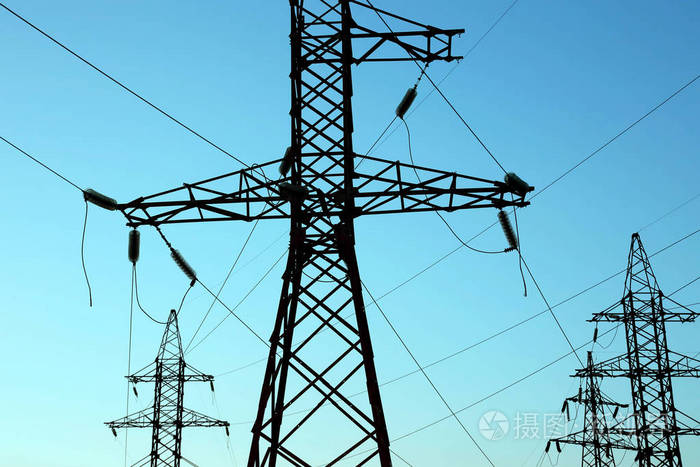insulator: (167, 246, 198, 281), (496, 210, 521, 250), (79, 187, 117, 212), (395, 87, 415, 118), (128, 227, 142, 264)
